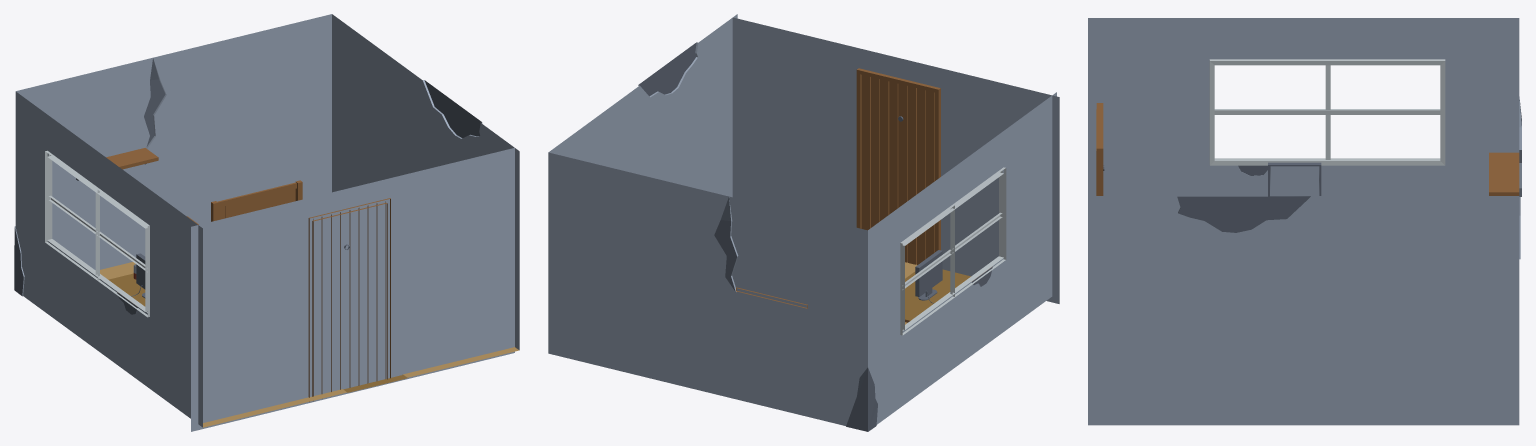
The model's file is room.fbx.
The picture shows the model from 3 angles, left to right: view 1: azimuth 30°, elevation 25°; view 2: azimuth 150°, elevation 25°; view 3: azimuth 270°, elevation 25°; orthographic projection. The views are drawn at different scales.
Parts seen in each view (by area): view 1: room, door, window, bed, shelf, table; view 2: room, door, window, table, monitor; view 3: room, window, monitor, shelf, door.
Boxes of the visible parts, x1,y1,x2,y2 form: room: [14, 14, 519, 431]; door: [308, 198, 390, 401]; window: [45, 150, 149, 317]; bed: [211, 180, 302, 221]; shelf: [76, 148, 158, 180]; table: [108, 273, 145, 306]; room: [548, 14, 1059, 431]; door: [856, 68, 940, 264]; window: [900, 167, 1006, 335]; table: [905, 269, 970, 322]; monitor: [915, 250, 942, 300]; room: [1088, 18, 1521, 425]; window: [1209, 59, 1445, 165]; monitor: [1268, 162, 1321, 196]; shelf: [1489, 152, 1519, 195]; door: [1096, 103, 1104, 195].
Size of the model in its own units: 438 by 264 by 440.
